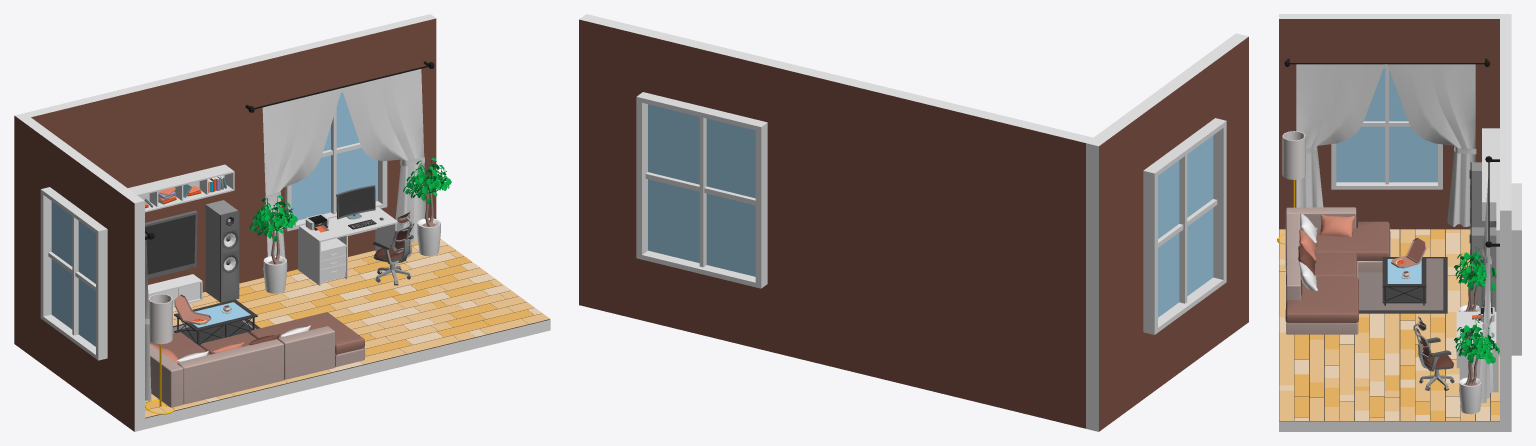
File: room_8.glb
3 renders of one model, left to right at view 1: azimuth 30°, elevation 25°; view 2: azimuth 150°, elevation 25°; view 3: azimuth 270°, elevation 25°, orthographic. The views are drawn at different scales.
Parts seen in each view (by area): view 1: Walls_009.009, floor_015.002, sofa_028.002, tv_wall_019.003, window_003.001, Walls_009.011, Walls_009.007, Walls_011.011, Curtains_013.001, Curtains_013.002, window_003.002, office_table_040.001 (+16 smaller); view 2: Walls_009.009, window_003.002, Walls_009.006, Walls_009.007, window_003.001, Walls_009.011, Walls_009.010, Walls_009.008, Walls_009.013, Walls_009.012; view 3: floor_015.002, sofa_028.002, window_003.001, Curtains_013.003, Curtains_013.004, Walls_009.007, Walls_009.013, Walls_009.011, floor_015.001, Walls_011.011, Walls_009.012, tv_wall_019.003 (+22 smaller).
Boxes of the visible parts, box(x1,y1,x2,y2) form: Walls_009.009: box(25, 51, 285, 292); floor_015.002: box(239, 238, 549, 368); sofa_028.002: box(149, 312, 364, 407); tv_wall_019.003: box(128, 164, 239, 307); window_003.001: box(40, 187, 107, 360); Walls_009.011: box(107, 181, 144, 431); Walls_009.007: box(14, 113, 60, 369); Walls_011.011: box(145, 244, 550, 429); Curtains_013.001: box(341, 69, 425, 242); Curtains_013.002: box(262, 88, 341, 257); window_003.002: box(285, 90, 387, 231); office_table_040.001: box(298, 185, 398, 285); Walls_009.009: box(767, 60, 1092, 428); window_003.002: box(636, 92, 767, 288); Walls_009.006: box(579, 14, 650, 320); Walls_009.007: box(1086, 110, 1143, 431); window_003.001: box(1143, 118, 1226, 334); Walls_009.011: box(1203, 33, 1248, 346); Walls_009.010: box(644, 30, 774, 121); Walls_009.008: box(644, 260, 767, 350); Walls_009.013: box(1131, 58, 1215, 169); Walls_009.012: box(1144, 291, 1215, 398); floor_015.002: box(1279, 325, 1499, 420); sofa_028.002: box(1285, 207, 1390, 334); window_003.001: box(1331, 64, 1442, 189); Curtains_013.003: box(1387, 64, 1476, 226); Curtains_013.004: box(1296, 64, 1384, 207); Walls_009.007: box(1442, 14, 1511, 229); Walls_009.013: box(1331, 14, 1441, 62); Walls_009.011: box(1279, 14, 1331, 229); floor_015.001: box(1279, 229, 1470, 324); Walls_011.011: box(1279, 229, 1499, 431); Walls_009.012: box(1331, 189, 1441, 229); tv_wall_019.003: box(1469, 128, 1499, 311).
Size of the model in its own units: 8.18 by 4.2 by 4.21.
1 material, 1 textured.
